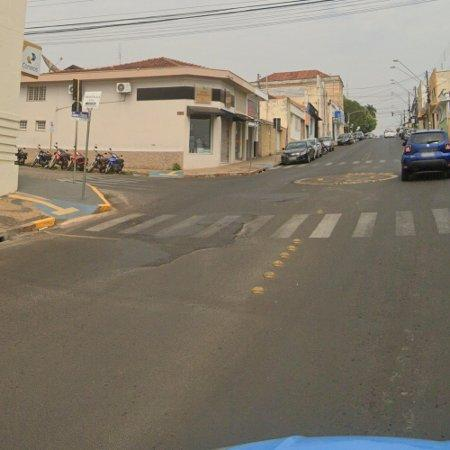crosswalks: (52, 207, 450, 244)
